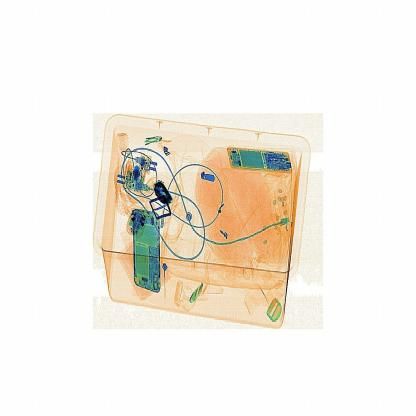scissors: (150, 178, 187, 221)
